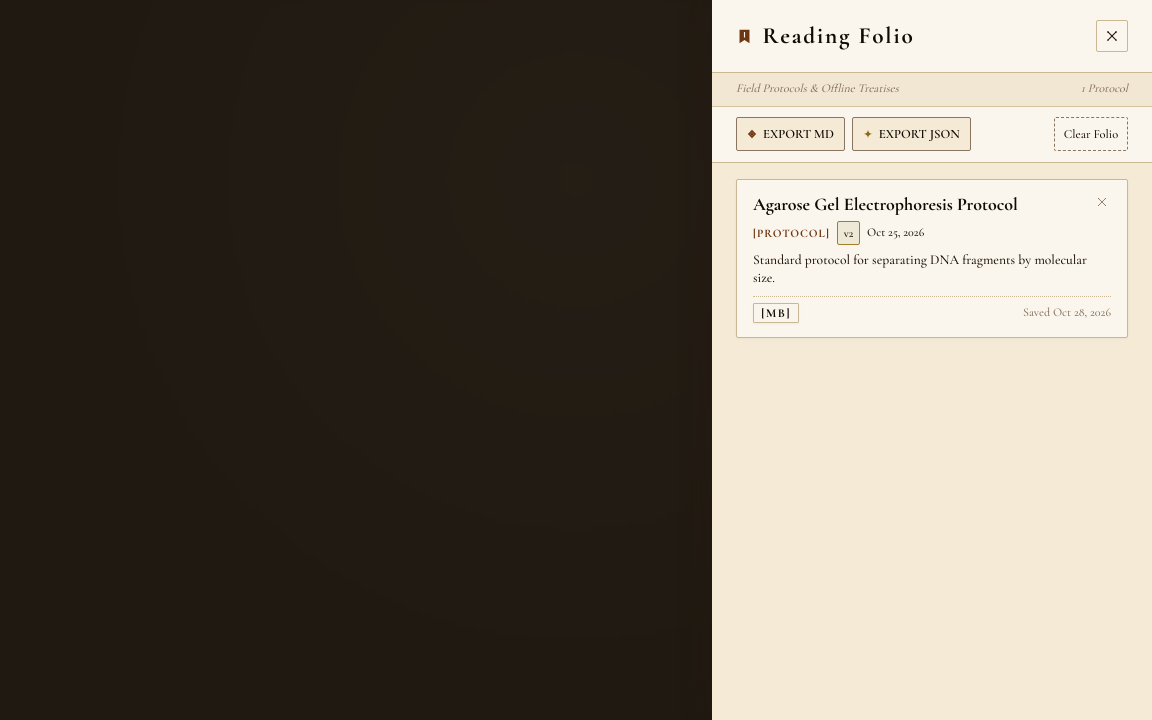
it: Client-Side Bookmarks Engine (WP-10) › BookmarksDrawer Component › allows removing individual bookmark from drawer
Check: the link "Agarose Gel Electrophoresis Protocol" is shown, box [753,193,1018,216]
Click the button named "Remove Agarose Gel Electrophoresis Protocol from folio". click: [1102, 202]
box: [1093,193,1111,212]
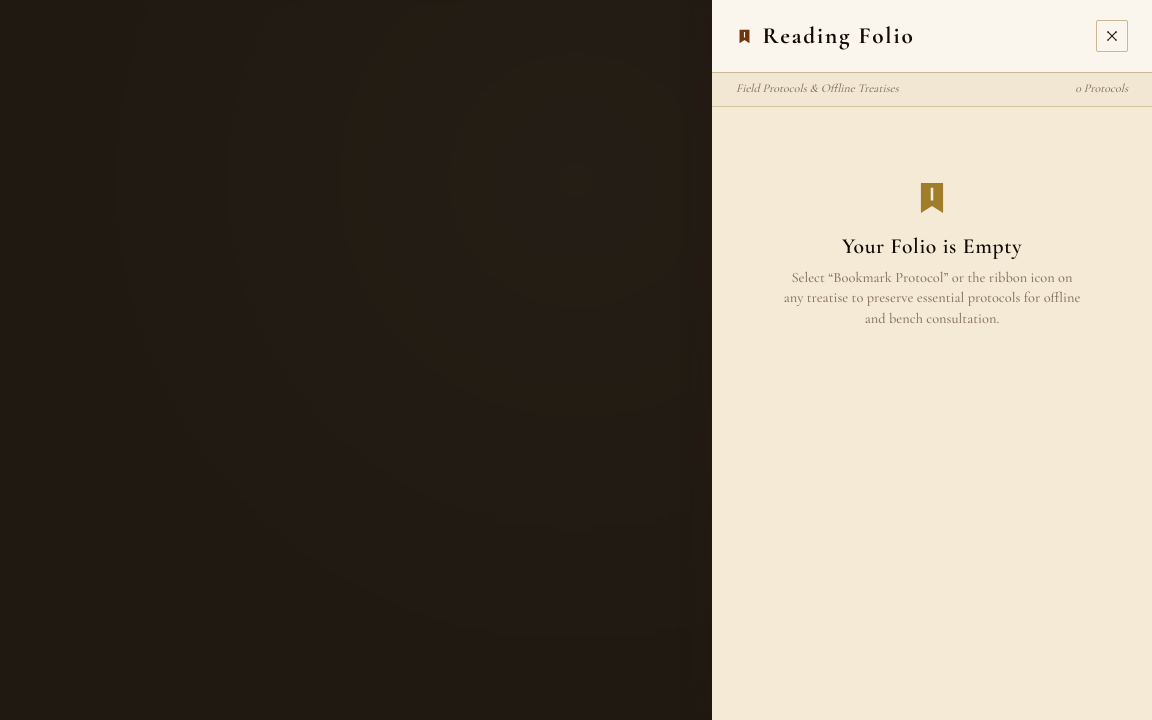
Check: the link "Agarose Gel Electrophoresis Protocol" is gone
